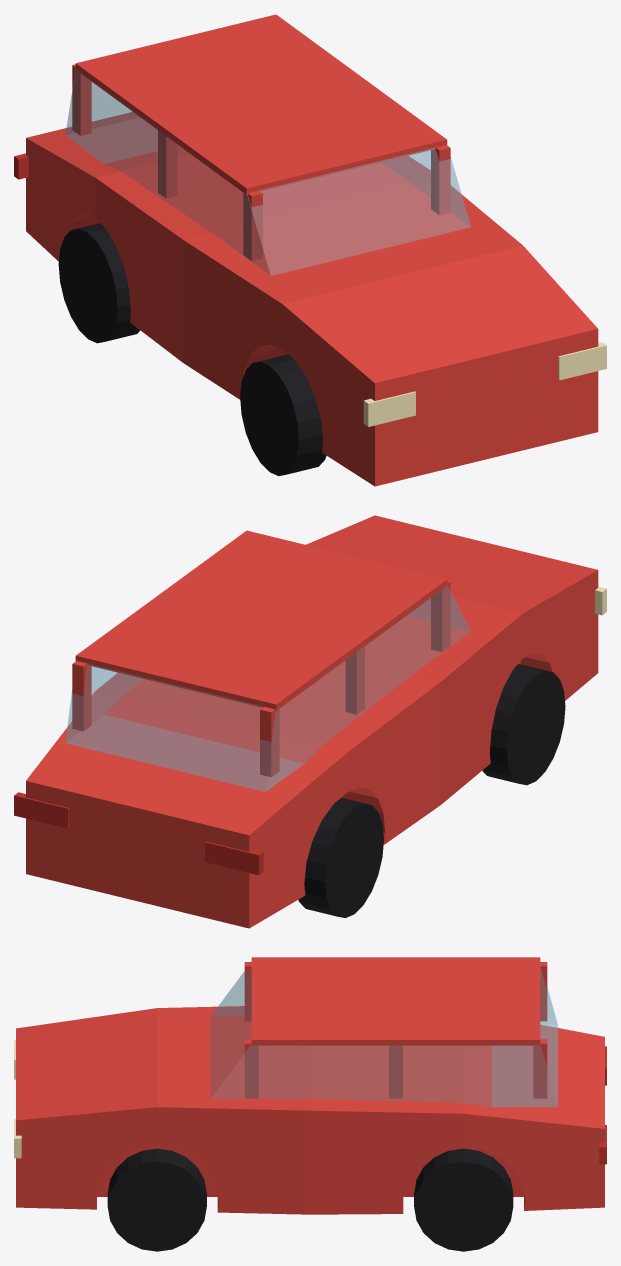
File: hatchback.glb
3 renders of one model, top to bottom at view 1: azimuth 30°, elevation 25°; view 2: azimuth 150°, elevation 25°; view 3: azimuth 270°, elevation 25°, orthographic. The views are drawn at different scales.
Visible parts, largest first — view 1: body, cabin_roof, cabin_glass, wheel_FR_tyre, wheel_RR_tyre, head_L, pillar_front_L, pillar_front_R, head_R, pillar_rear_L, pillar_mid_L; view 2: body, cabin_roof, cabin_glass, wheel_RR_tyre, wheel_FR_tyre, pillar_rear_L, pillar_rear_R, tail_L, tail_R, pillar_front_L, pillar_mid_L; view 3: body, cabin_roof, cabin_glass, wheel_FL_tyre, wheel_RL_tyre, pillar_front_R, pillar_rear_R, pillar_mid_R, pillar_front_L, pillar_rear_L.
Boxes of the visible parts, left/top/right/bottom form: body: left=26, top=112, right=598, bottom=486; cabin_roof: left=75, top=14, right=447, bottom=194; cabin_glass: left=65, top=69, right=470, bottom=275; wheel_FR_tyre: left=240, top=354, right=326, bottom=476; wheel_RR_tyre: left=58, top=223, right=140, bottom=343; head_L: left=363, top=391, right=415, bottom=426; pillar_front_L: left=243, top=190, right=262, bottom=260; pillar_front_R: left=431, top=145, right=450, bottom=215; head_R: left=558, top=342, right=606, bottom=380; pillar_rear_L: left=72, top=64, right=91, bottom=135; pillar_mid_L: left=158, top=130, right=177, bottom=198; body: left=26, top=515, right=598, bottom=928; cabin_roof: left=75, top=530, right=447, bottom=710; cabin_glass: left=65, top=585, right=470, bottom=791; wheel_RR_tyre: left=298, top=797, right=383, bottom=917; wheel_FR_tyre: left=482, top=664, right=565, bottom=785; pillar_rear_L: left=260, top=706, right=279, bottom=776; pillar_rear_R: left=72, top=661, right=91, bottom=731; tail_L: left=205, top=841, right=263, bottom=875; tail_R: left=14, top=792, right=69, bottom=828; pillar_front_L: left=431, top=580, right=450, bottom=651; pillar_mid_L: left=345, top=646, right=364, bottom=714; body: left=16, top=1006, right=604, bottom=1214; cabin_roof: left=251, top=957, right=540, bottom=1045; cabin_glass: left=211, top=967, right=557, bottom=1107; wheel_FL_tyre: left=107, top=1148, right=206, bottom=1251; wheel_RL_tyre: left=414, top=1148, right=513, bottom=1251; pillar_front_R: left=244, top=1039, right=258, bottom=1098; pillar_rear_R: left=533, top=1039, right=547, bottom=1098; pillar_mid_R: left=389, top=1045, right=402, bottom=1098; pillar_front_L: left=244, top=962, right=251, bottom=1021; pillar_rear_L: left=540, top=962, right=547, bottom=1021.
Bounding box in the file's own units: 1.68 × 1.41 × 3.82.
